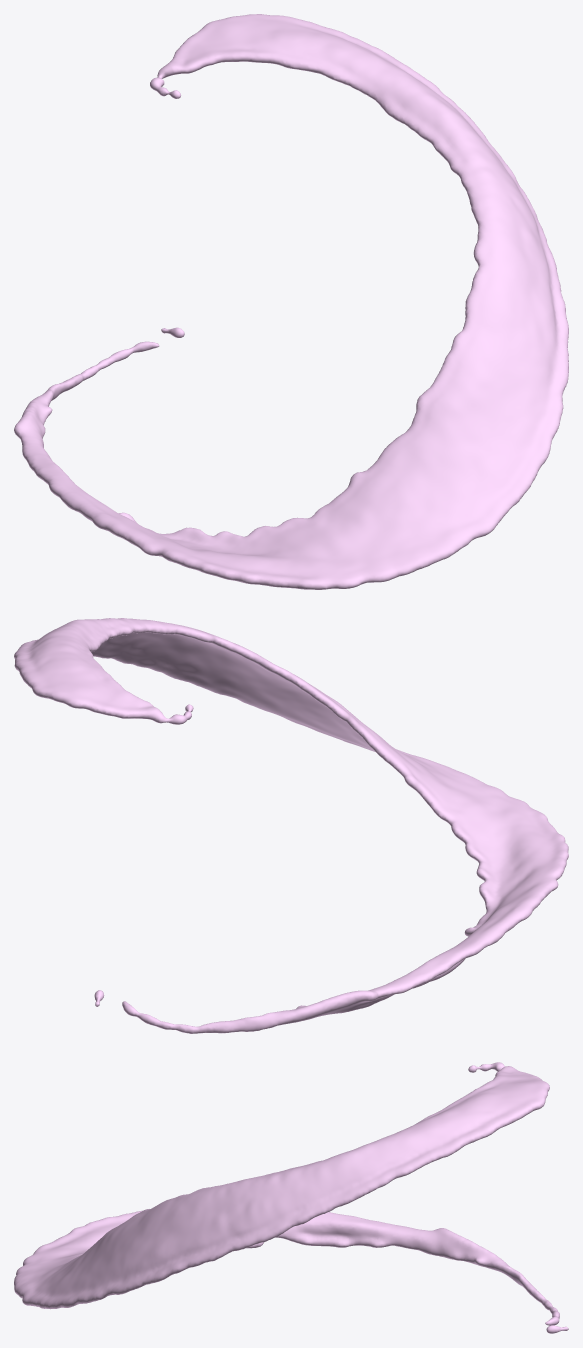
The model's file is band.glb.
The picture shows the model from 3 angles, top to bottom: view 1: azimuth 30°, elevation 25°; view 2: azimuth 150°, elevation 25°; view 3: azimuth 270°, elevation 25°; orthographic projection. The views are drawn at different scales.
Parts seen in each view (by area): view 1: Klecks; view 2: Klecks; view 3: Klecks.
Boxes of the visible parts, x1=… form: Klecks: x1=14, y1=14, x2=568, y2=589; Klecks: x1=14, y1=618, x2=568, y2=1033; Klecks: x1=14, y1=1062, x2=568, y2=1333.
Size of the model in its own units: 1.5 by 1.03 by 1.86.
